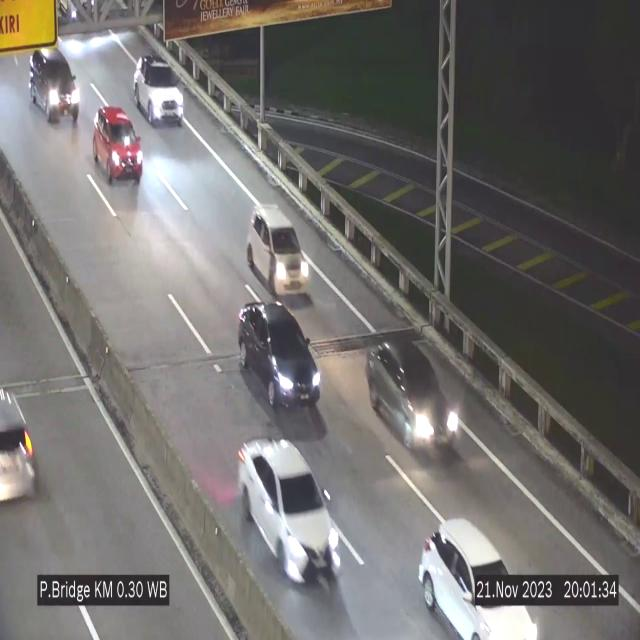Car: (238, 438, 341, 582), (420, 520, 538, 640), (361, 327, 461, 456), (235, 290, 325, 412), (247, 191, 310, 301), (0, 380, 46, 518), (24, 40, 80, 143), (93, 106, 153, 194), (133, 54, 184, 126)
